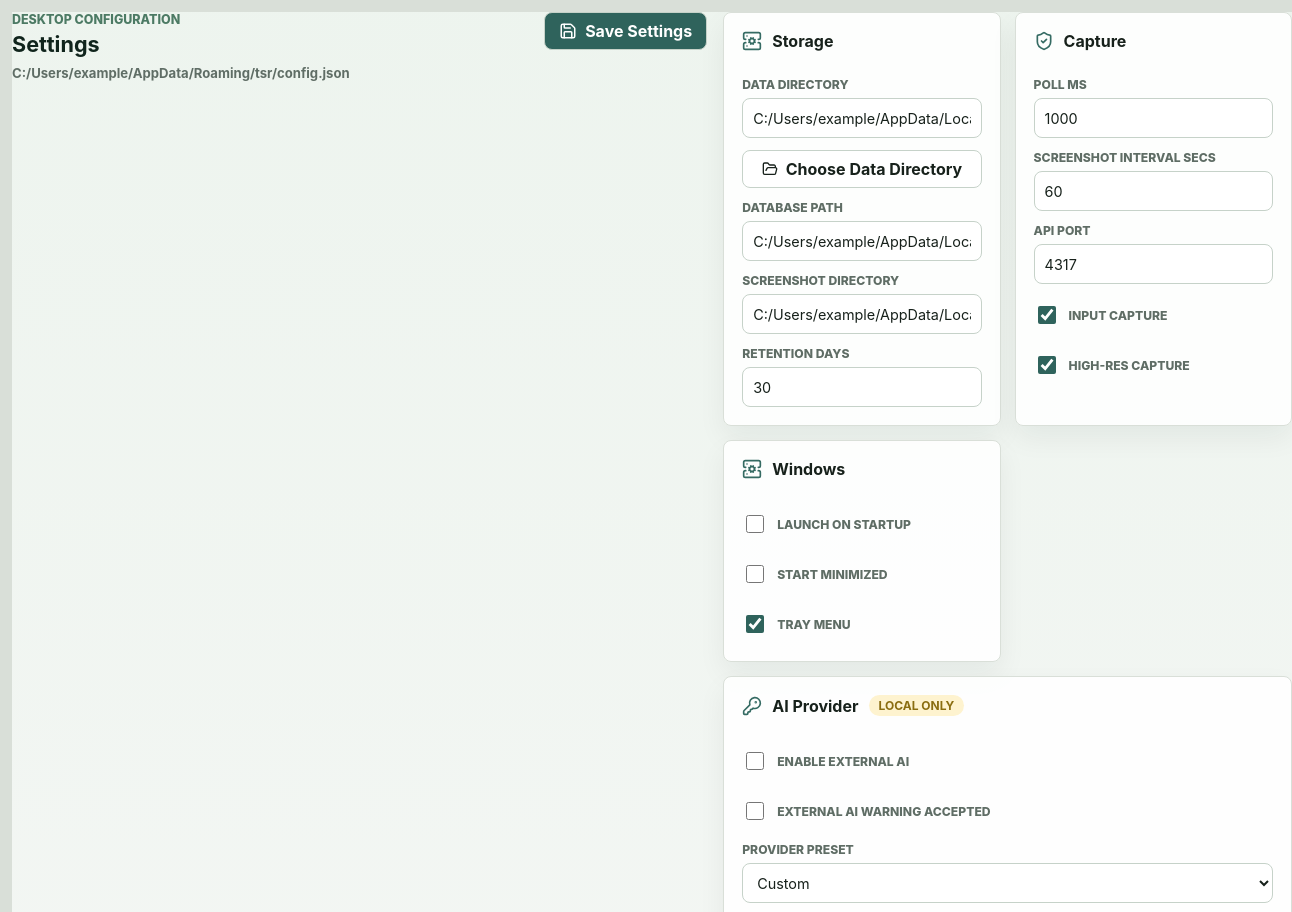
Test: SettingsView › lets the user choose a data directory from the desktop picker
Click the button "Choose Data Directory".
click(862, 169)  # box [742,150,982,188]
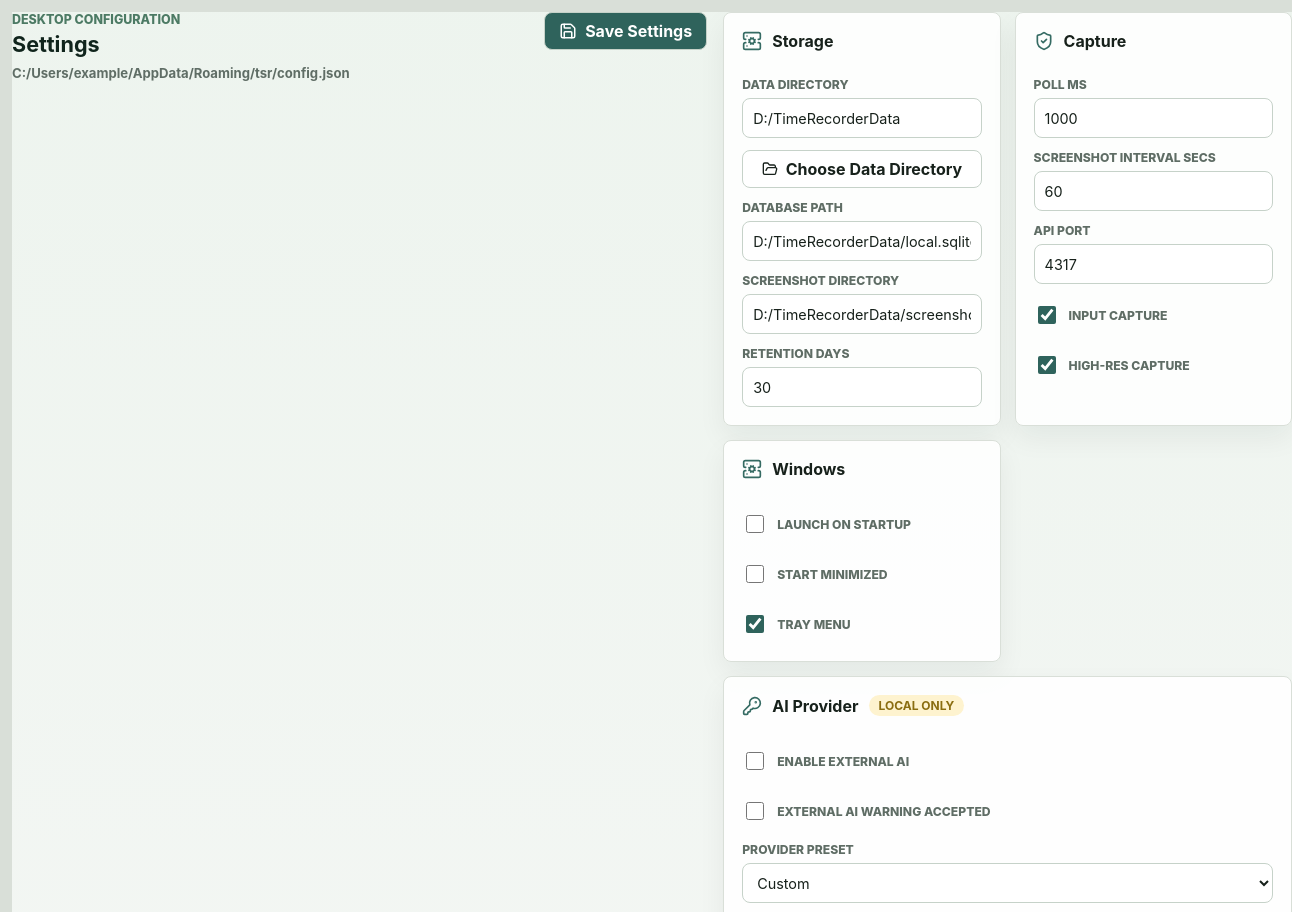
Expected: the field labelled "Data Directory" holds "D:/TimeRecorderData", [742,98,982,138]
Expected: the field labelled "Database Path" holds "D:/TimeRecorderData/local.sqlite3", [742,221,982,261]
